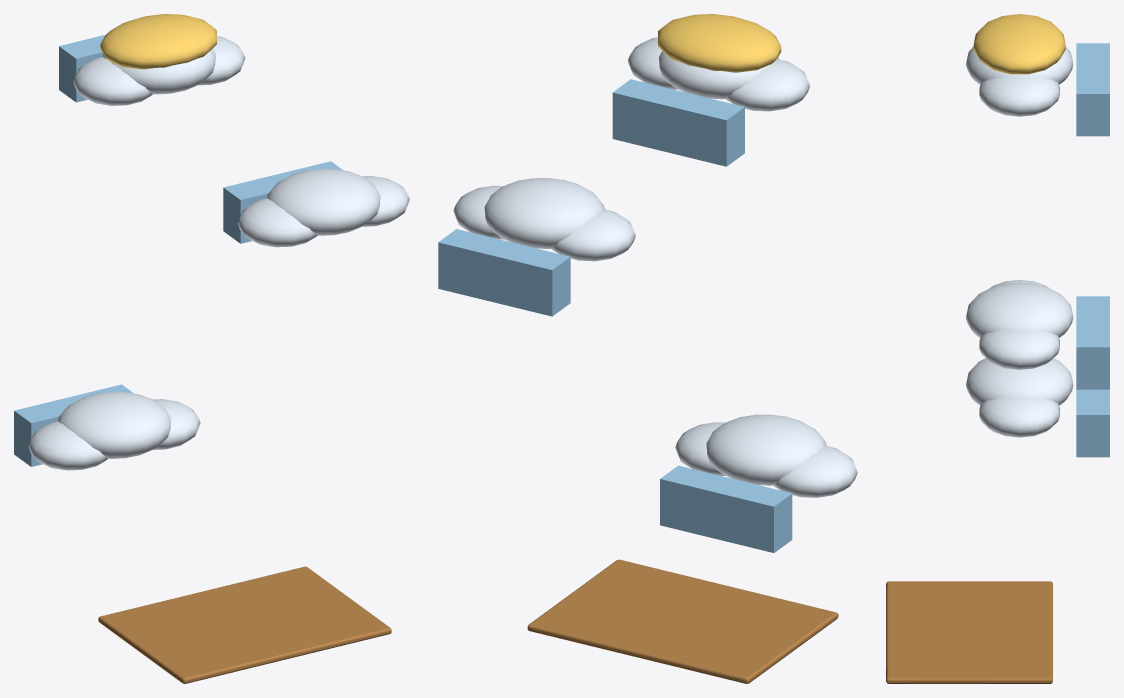
Rendered from catsteps-clouds.glb.
3 views of the same model, side by side, from view 1: azimuth 30°, elevation 25°; view 2: azimuth 150°, elevation 25°; view 3: azimuth 270°, elevation 25° (orthographic). The views are drawn at different scales.
Size of the model in its own units: 1.24 by 1.92 by 0.67.
